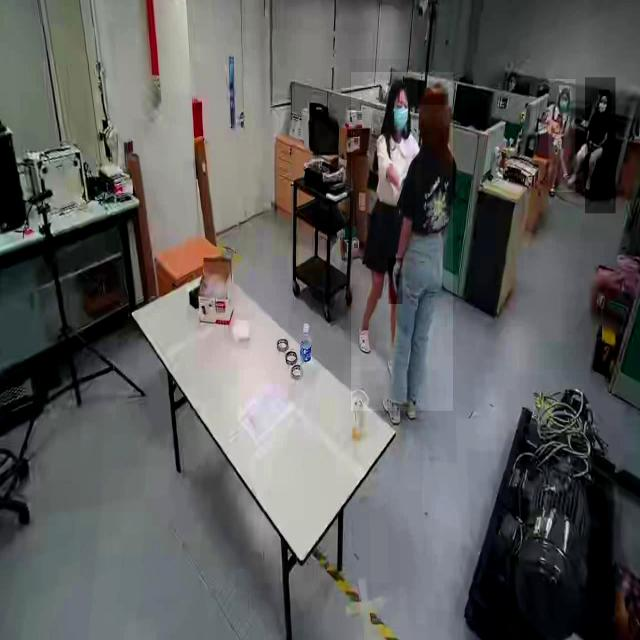face_mask: (391, 95, 408, 129), (560, 92, 571, 115), (598, 94, 608, 118)
hand_glove: (389, 258, 403, 305)
hand_noglove: (588, 139, 594, 153), (592, 142, 598, 150)
head_nohelmet: (418, 81, 448, 106), (387, 76, 409, 94), (559, 85, 569, 94), (599, 90, 610, 96)
person: (351, 72, 453, 412), (350, 59, 416, 366), (585, 78, 616, 214), (548, 79, 576, 193)
shoes: (380, 393, 406, 429), (401, 390, 422, 428)
